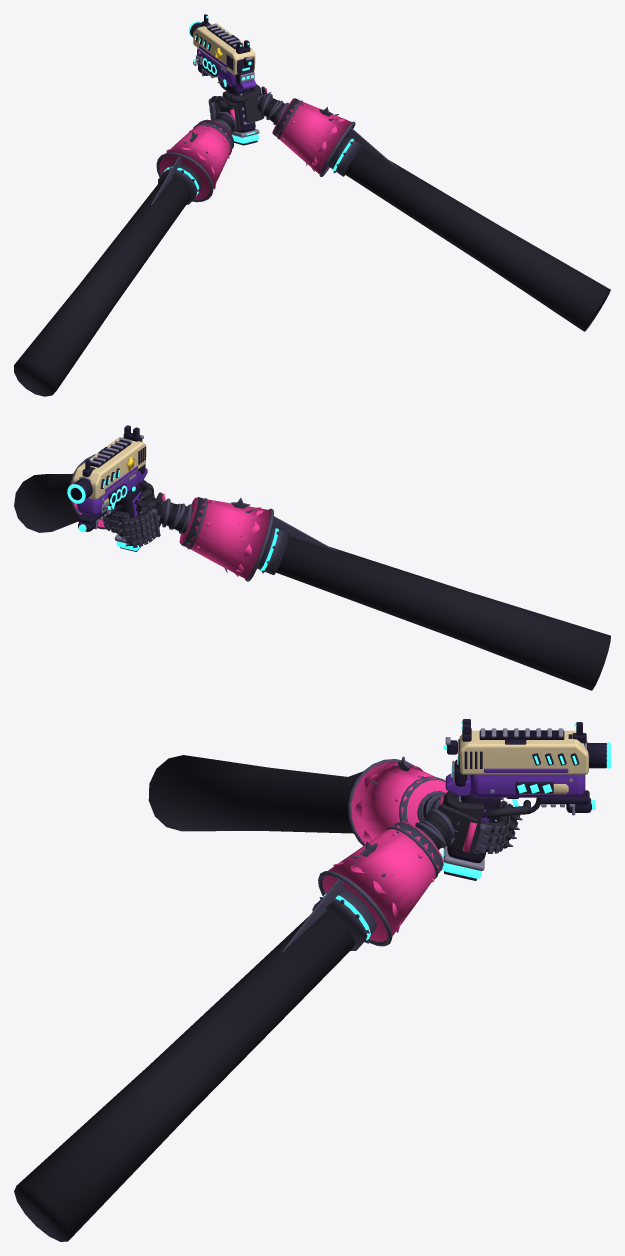
Rendered from pulse_pistol.glb.
The picture shows the model from 3 angles, top to bottom: view 1: azimuth 30°, elevation 25°; view 2: azimuth 150°, elevation 25°; view 3: azimuth 270°, elevation 25°; orthographic projection. The views are drawn at different scales.
Parts seen in each view (by area): view 1: ArmR, ArmL, ArmRKitBell, ArmLKitBell, Shell, Slide; view 2: ArmL, ArmLKitBell, ArmR, Shell, Slide, ArmLKitGauntlet, ArmLKitFins, ArmLKitWraps; view 3: ArmR, ArmL, ArmRKitBell, Shell, Slide, ArmLKitBell, ArmRKitGauntlet, ArmRKitMitten, ArmRKitFins.
Boxes of the visible parts, x1,y1,x2,y2 form: ArmR: [220, 79, 610, 331]; ArmL: [14, 96, 241, 396]; ArmRKitBell: [272, 98, 355, 176]; ArmLKitBell: [156, 119, 233, 202]; Shell: [188, 21, 259, 137]; Slide: [193, 23, 255, 74]; ArmL: [120, 494, 610, 690]; ArmLKitBell: [179, 497, 274, 581]; ArmR: [14, 474, 153, 532]; Shell: [67, 464, 147, 543]; Slide: [72, 437, 146, 499]; ArmLKitGauntlet: [123, 497, 214, 548]; ArmLKitFins: [157, 509, 336, 551]; ArmLKitWraps: [153, 498, 192, 537]; ArmR: [14, 791, 531, 1241]; ArmL: [148, 755, 518, 848]; ArmRKitBell: [318, 821, 443, 946]; Shell: [442, 742, 610, 870]; Slide: [457, 728, 588, 774]; ArmLKitBell: [348, 756, 447, 845]; ArmRKitGauntlet: [392, 805, 510, 882]; ArmRKitMitten: [438, 804, 477, 853]; ArmRKitFins: [281, 819, 458, 952].
Size of the model in its own units: 2.26 by 0.9436 by 1.41.
